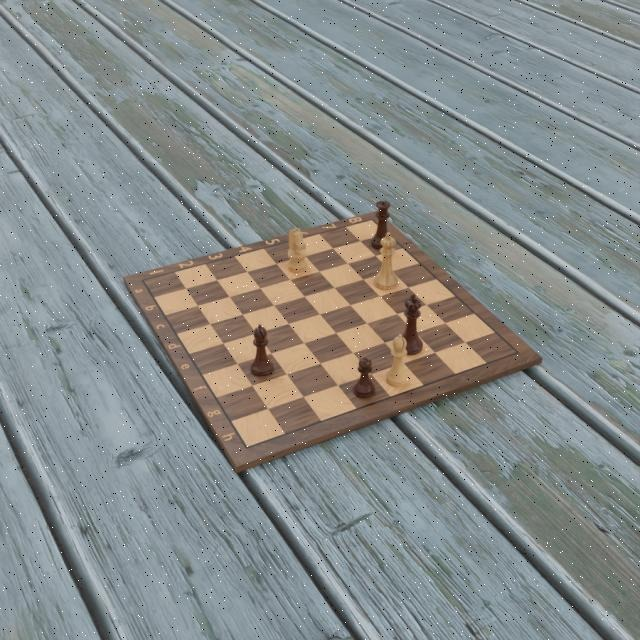black-bishop: (248, 323, 275, 377)
black-king: (399, 293, 422, 357)
black-pawn: (352, 357, 375, 399)
black-queen: (371, 199, 393, 250)
white-bishop: (385, 332, 410, 387)
white-king: (372, 232, 399, 291)
white-knight: (287, 227, 307, 273)
